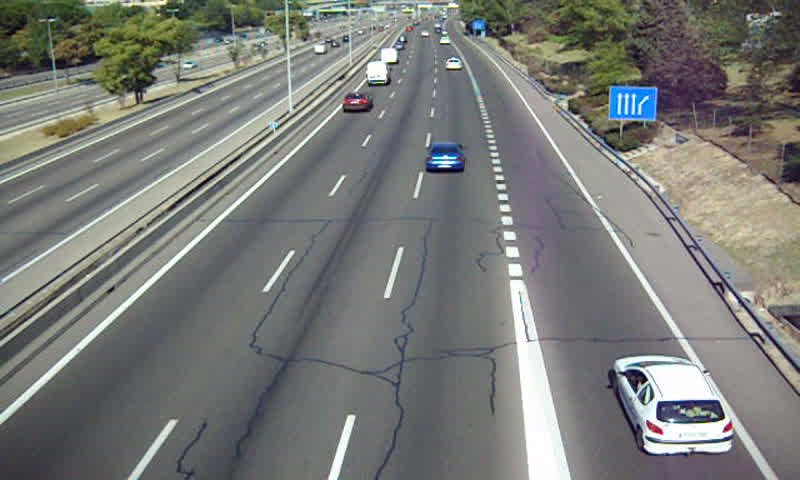car: (610, 354, 734, 456), (425, 142, 468, 173), (341, 91, 373, 113), (446, 58, 464, 70)
van: (364, 61, 393, 86), (382, 46, 397, 65)
